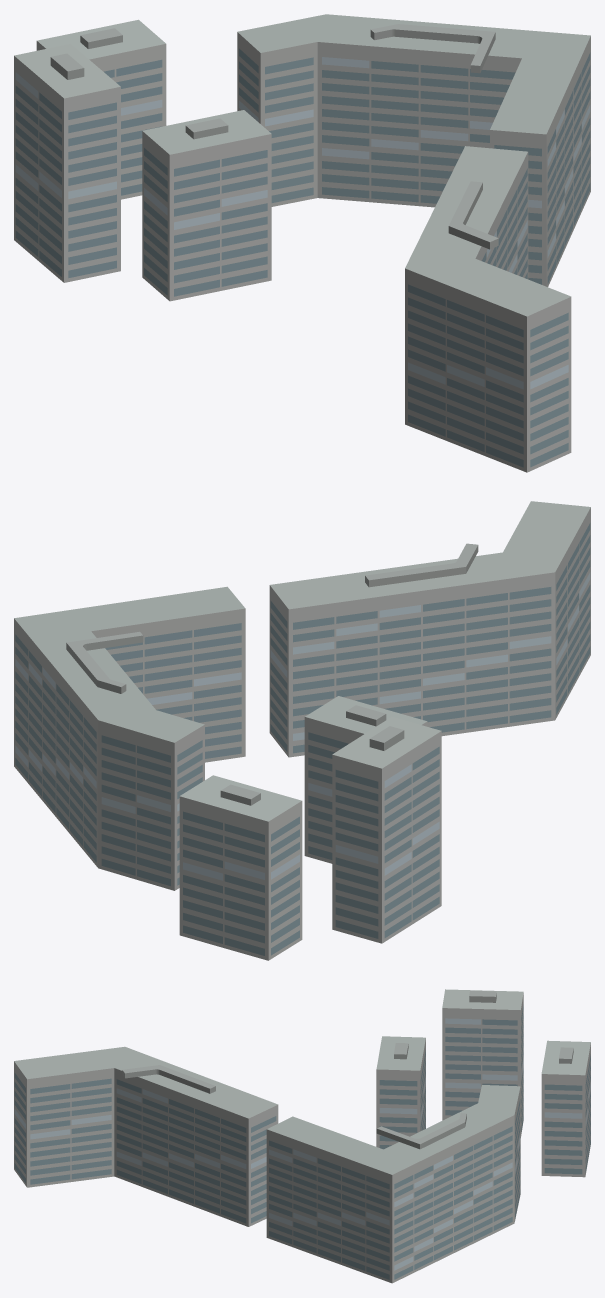
File: apt-a12111001.glb
The picture shows the model from 3 angles, top to bottom: view 1: azimuth 30°, elevation 25°; view 2: azimuth 150°, elevation 25°; view 3: azimuth 270°, elevation 25°; orthographic projection. The views are drawn at different scales.
Visible parts, largest first — view 1: apt-a12111001; view 2: apt-a12111001; view 3: apt-a12111001.
Part boxes in pixels (x1=…): apt-a12111001: x1=14, y1=14, x2=590, y2=472; apt-a12111001: x1=14, y1=501, x2=590, y2=960; apt-a12111001: x1=14, y1=989, x2=590, y2=1283.
Bounding box in the file's own units: 103 × 39 × 152.
